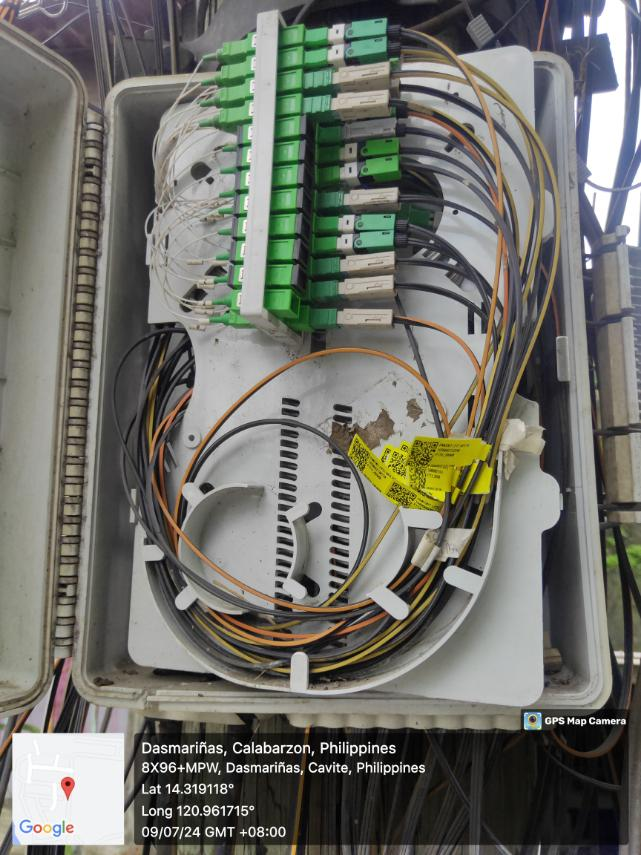no dust cap: (289, 290, 301, 320)
occupied: (303, 15, 406, 50), (299, 36, 402, 70), (301, 57, 404, 91), (302, 87, 405, 121), (319, 116, 406, 145), (319, 157, 401, 185), (321, 45, 400, 74), (321, 98, 412, 123), (318, 137, 402, 162), (311, 275, 399, 298), (311, 251, 399, 273), (318, 75, 399, 98), (318, 189, 402, 211), (317, 215, 410, 234), (313, 234, 406, 253), (308, 308, 396, 328)
vacant: (293, 267, 308, 296), (302, 139, 317, 168), (302, 163, 316, 194), (304, 116, 318, 146), (298, 214, 312, 242), (300, 188, 313, 217), (297, 240, 310, 269)
